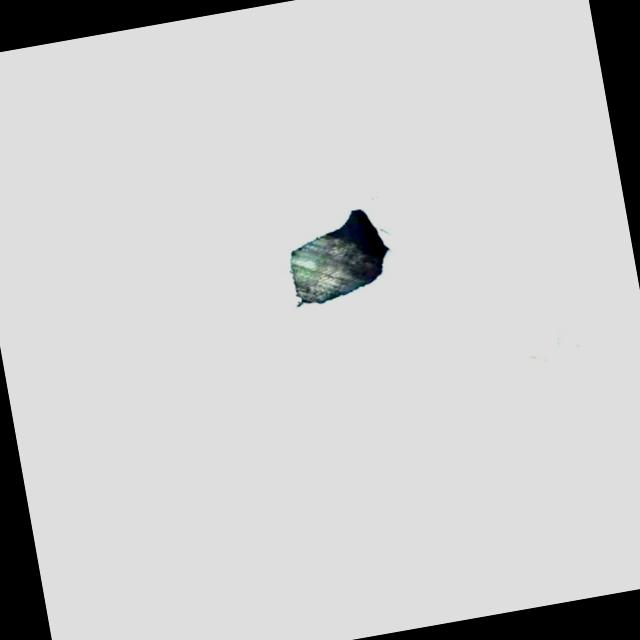surface_peeling: (281, 200, 398, 308)
